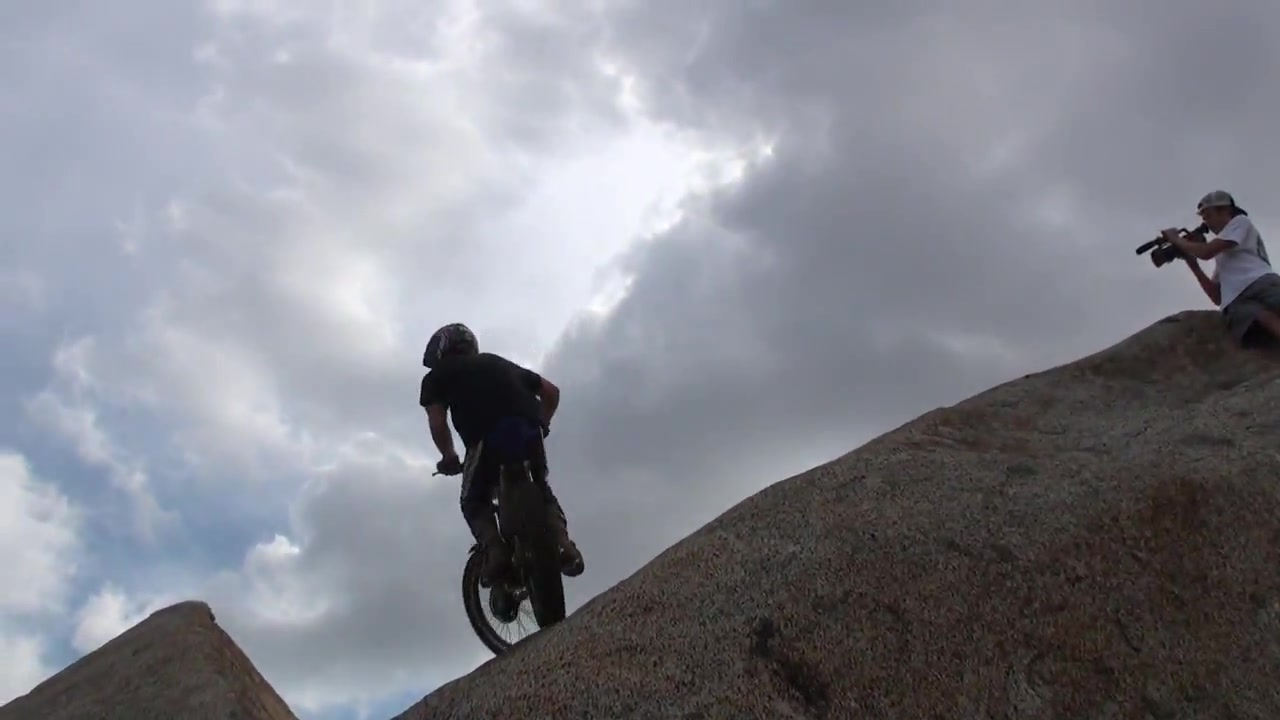motorbike: (436, 398, 575, 660)
